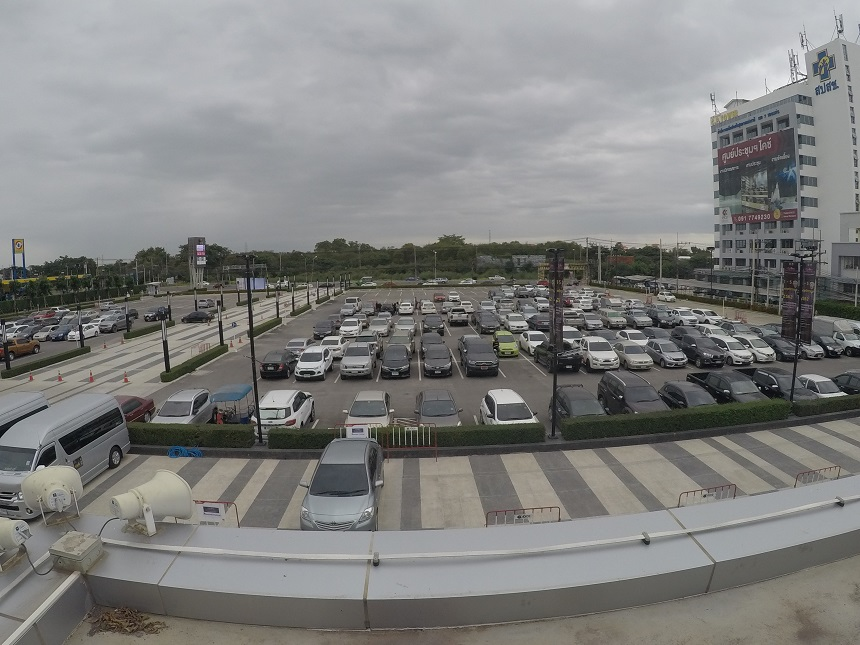busy: (5, 431, 91, 478), (301, 467, 384, 510), (160, 396, 211, 423), (261, 399, 308, 427), (610, 380, 656, 407), (558, 389, 601, 415), (485, 402, 532, 423), (350, 397, 389, 422), (416, 399, 459, 421), (294, 360, 329, 384), (547, 351, 585, 372), (380, 359, 415, 381), (669, 385, 707, 405), (422, 355, 455, 378), (720, 375, 753, 398), (465, 352, 499, 374), (690, 347, 728, 366), (121, 396, 153, 418), (1, 393, 31, 414), (341, 356, 369, 378), (766, 375, 796, 395), (591, 352, 619, 372), (262, 356, 288, 377), (838, 370, 859, 394), (626, 354, 655, 369), (805, 377, 830, 394), (662, 352, 687, 367), (844, 335, 860, 357), (804, 344, 824, 360), (731, 349, 753, 363), (778, 344, 798, 359), (758, 348, 774, 361), (828, 342, 841, 355)
